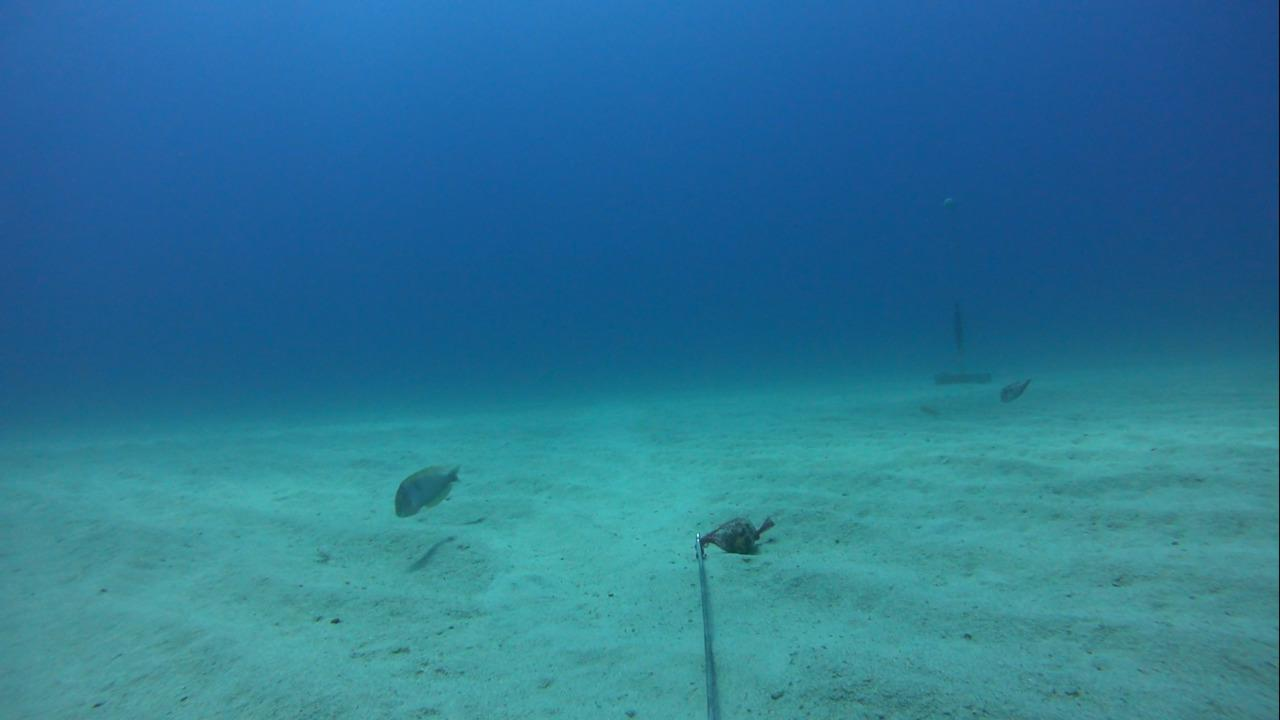raor: (380, 453, 469, 527), (985, 366, 1046, 416)
